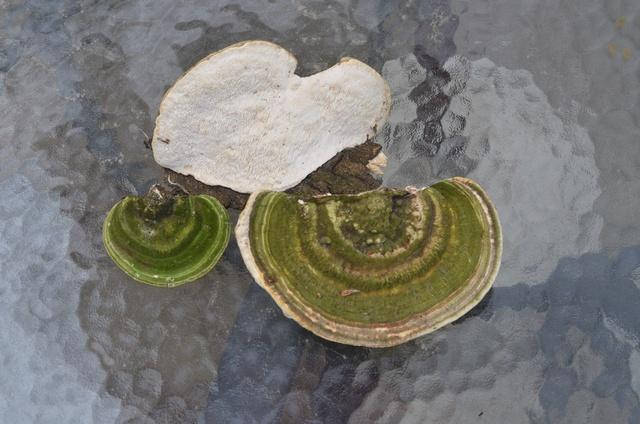Non-edible Mushroom: (234, 174, 504, 348), (149, 37, 392, 202), (79, 168, 234, 302)
